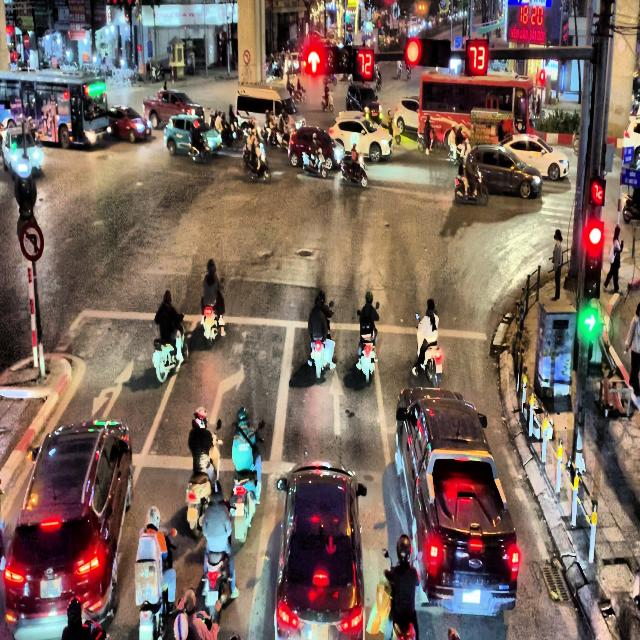BUS: (417, 70, 537, 150), (0, 71, 110, 149)
CAR: (3, 419, 133, 639), (412, 450, 520, 616), (274, 462, 367, 640), (465, 143, 543, 200), (499, 134, 569, 182), (329, 111, 393, 162), (163, 113, 223, 161), (288, 126, 345, 170), (2, 128, 43, 178), (106, 105, 152, 143), (346, 82, 382, 121), (394, 97, 419, 134)
MOTORBIKE: (134, 529, 176, 639), (197, 498, 236, 614), (185, 433, 222, 537), (152, 319, 189, 383), (412, 312, 443, 388), (308, 300, 334, 378), (356, 309, 378, 383), (200, 282, 224, 348), (454, 167, 488, 206), (242, 143, 271, 182), (340, 153, 367, 187), (302, 148, 327, 178), (188, 135, 211, 164), (622, 188, 640, 223), (417, 128, 441, 153), (220, 124, 238, 150), (321, 91, 334, 112)
